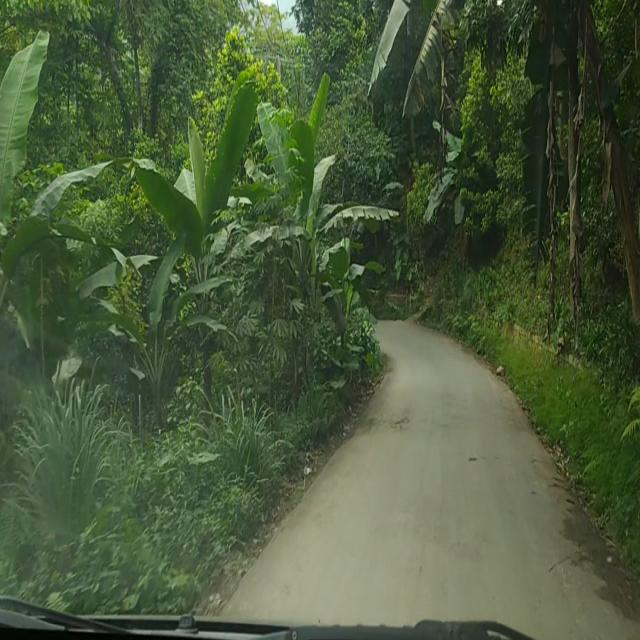Drain Hole: (362, 404, 414, 436)
